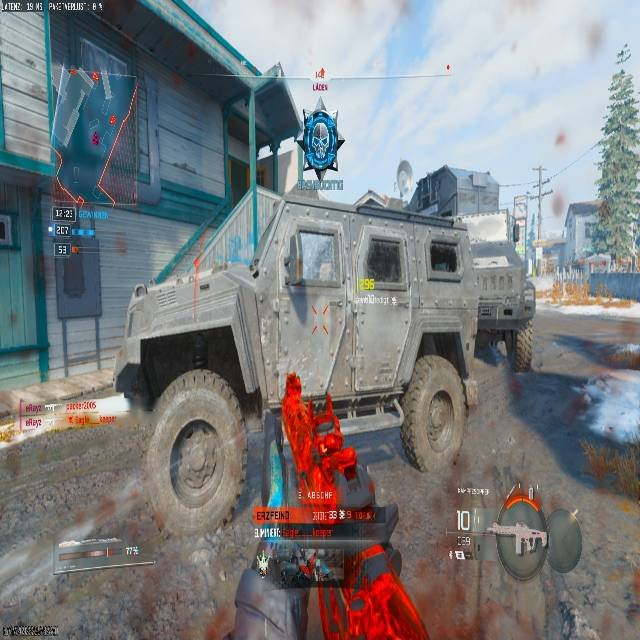player: (299, 109, 345, 180)
